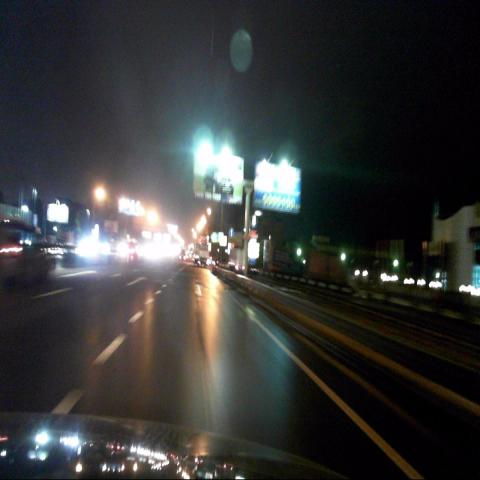4_1_1: (228, 227, 234, 238)
